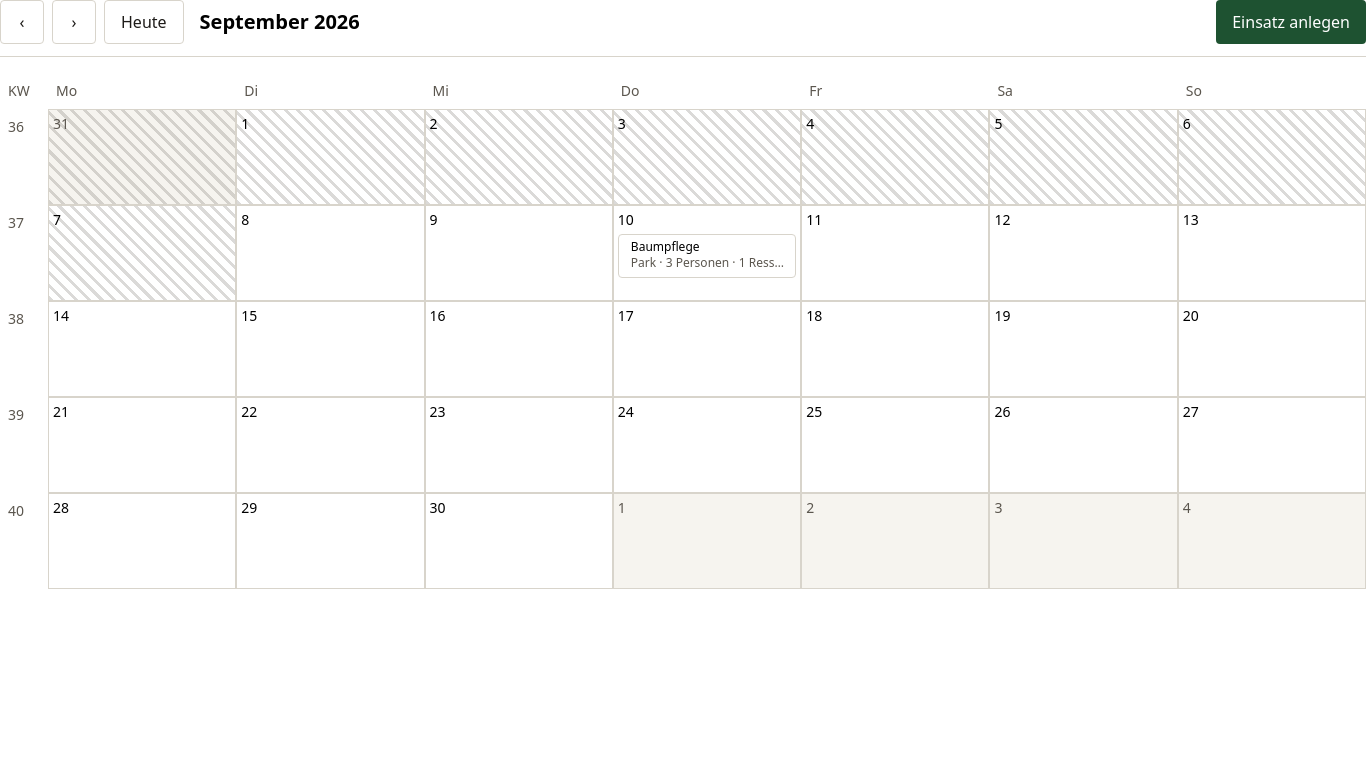
Test: PlanungsAnsicht: Fokus nach dem Schliessen des Tagesdrawers › Fall B - per Maus geoeffnet, ueber Schliessen beendet: Fokus zurueck auf die Tageskarte
This screenshot has width=1366, height=768.
Step 1. Click the button with test id "tageskarte" → (707, 256), box [618,234,796,278]
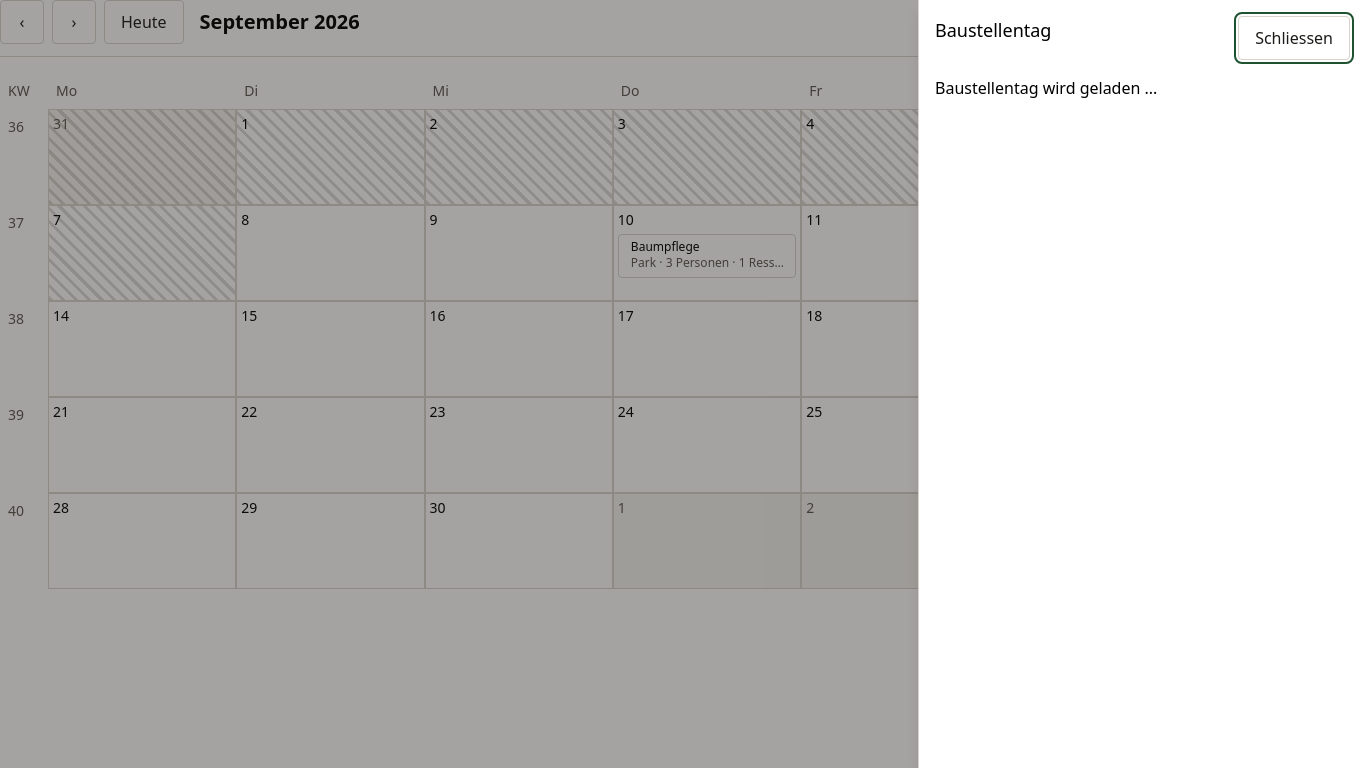
Expected: the dialog "Baustellentag" is shown, [918,0,1365,767]
Step 2. Click the button with aria-label "Dialog schliessen" → (1294, 38), box [1238,16,1350,60]
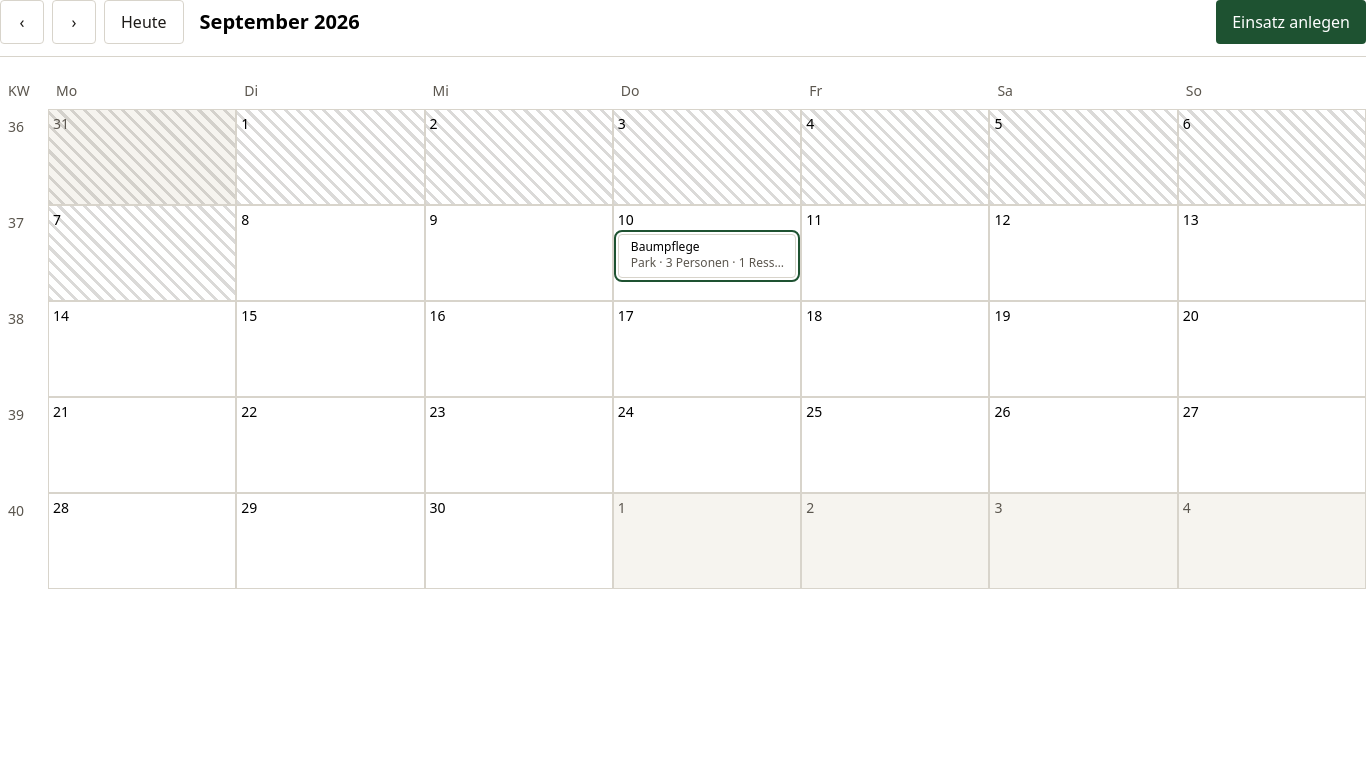
Expected: the dialog is gone
